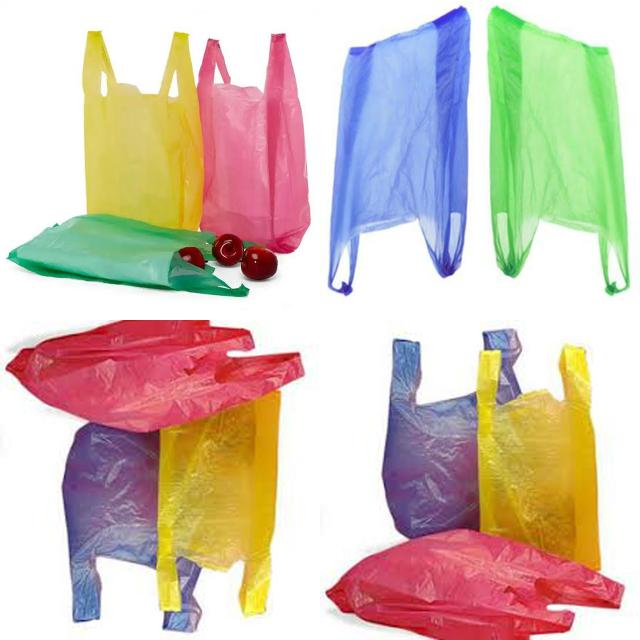Single-layer Plastic: (488, 8, 630, 294), (329, 8, 470, 294), (6, 320, 304, 432), (326, 530, 620, 640), (476, 344, 600, 570), (156, 390, 280, 616), (198, 34, 310, 252), (82, 31, 204, 230), (9, 214, 249, 296), (382, 339, 479, 538), (62, 424, 159, 621)
